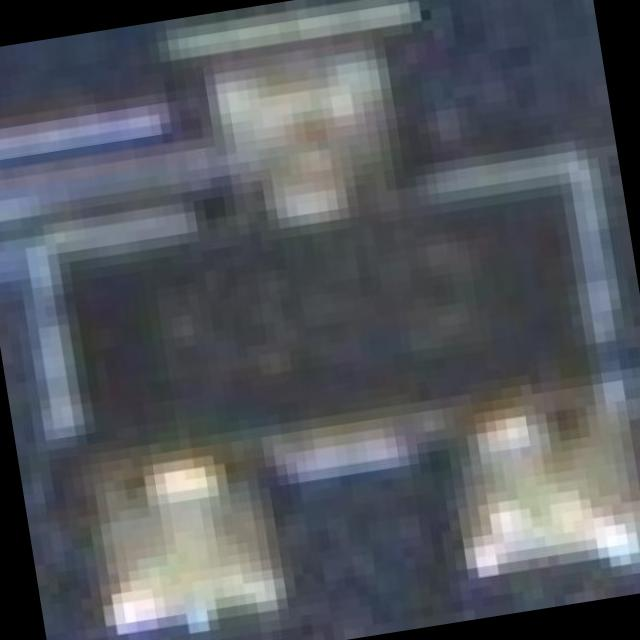transistor: (12, 23, 640, 603)
